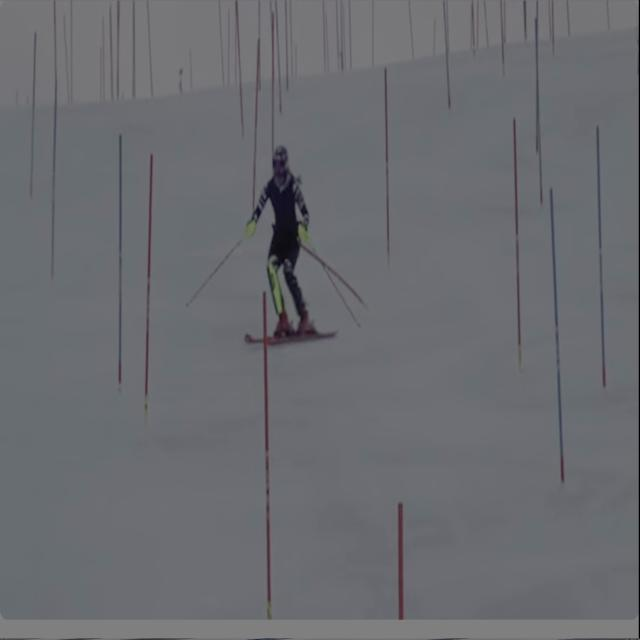gate: (242, 282, 285, 620), (496, 103, 530, 390), (591, 99, 616, 413), (101, 112, 128, 390), (548, 183, 570, 482), (136, 152, 158, 424), (380, 57, 398, 319), (394, 480, 407, 630)
